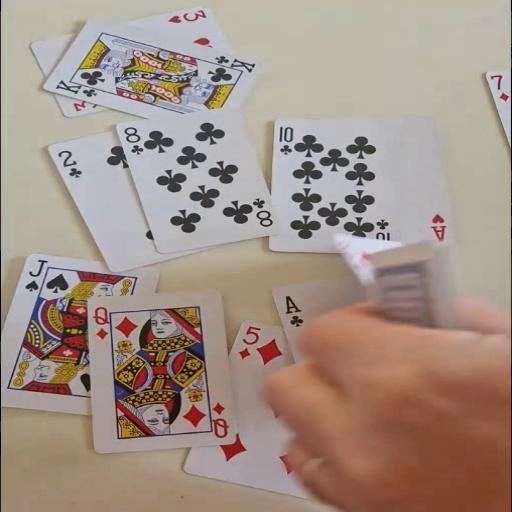10: (207, 400, 230, 439), (276, 124, 294, 156)
2: (54, 147, 83, 179)
3: (165, 7, 208, 24)
5: (235, 323, 263, 360)
7: (488, 72, 510, 102)
8: (120, 124, 144, 156), (250, 196, 274, 228)
A: (282, 293, 306, 328), (428, 211, 448, 242)
J: (22, 257, 48, 293)
K: (52, 77, 100, 99)
Q: (208, 400, 230, 439), (92, 305, 110, 341)
